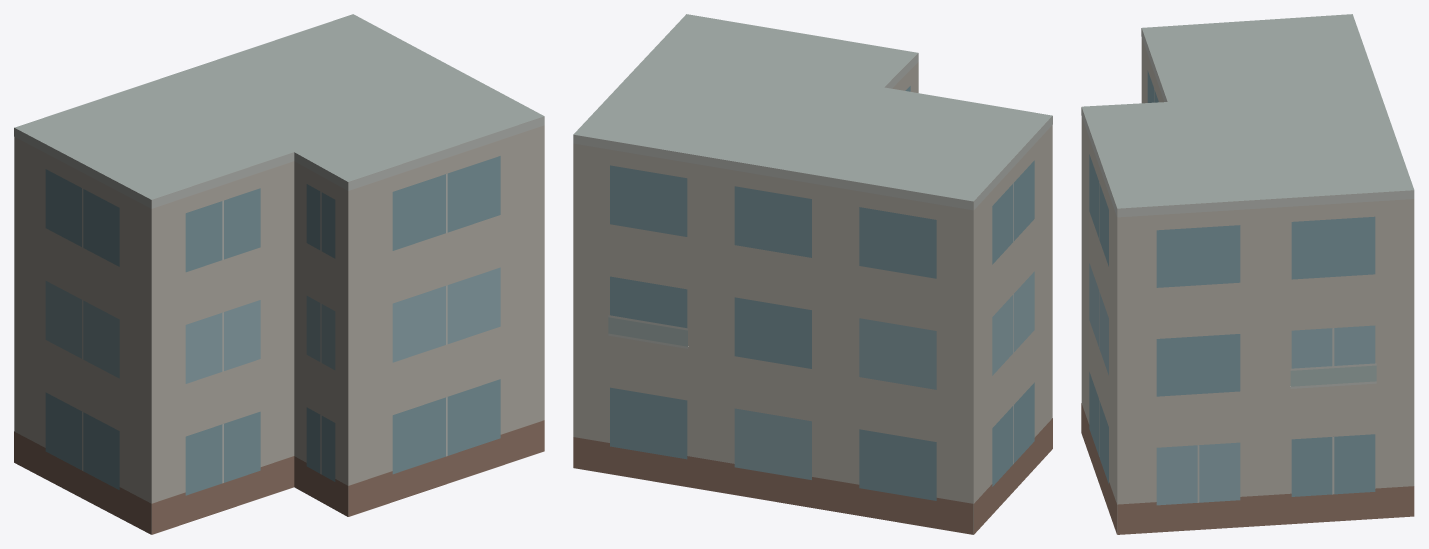
The model's file is survey-upis-32897003.glb.
3 renders of one model, left to right at view 1: azimuth 30°, elevation 25°; view 2: azimuth 150°, elevation 25°; view 3: azimuth 270°, elevation 25°, orthographic. The views are drawn at different scales.
Parts seen in each view (by area): view 1: survey-upis-32897003.tmp; view 2: survey-upis-32897003.tmp; view 3: survey-upis-32897003.tmp.
Boxes of the visible parts, left/top/right/bottom form: survey-upis-32897003.tmp: left=14, top=14, right=544, bottom=534; survey-upis-32897003.tmp: left=573, top=14, right=1052, bottom=534; survey-upis-32897003.tmp: left=1081, top=14, right=1414, bottom=534.
Bounding box in the file's own units: 11.65 × 9.1 × 8.43.
